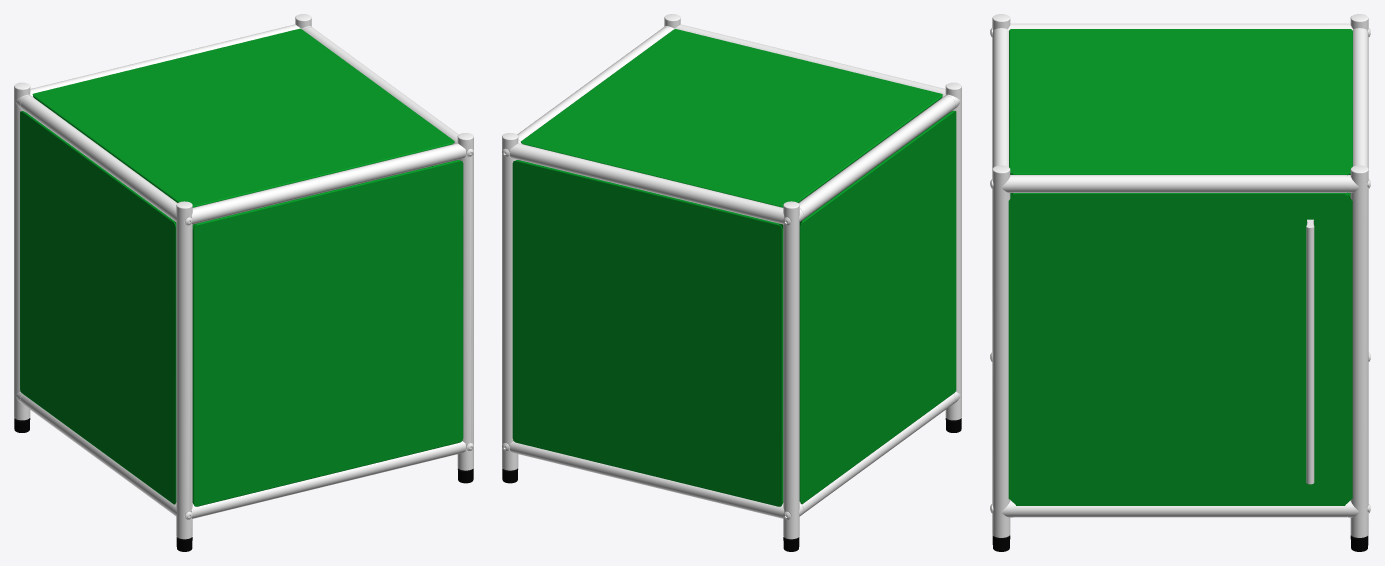
File: 40x40x40-2-5-green_optimized_optimized.glb
3 views of the same model, side by side, from view 1: azimuth 30°, elevation 25°; view 2: azimuth 150°, elevation 25°; view 3: azimuth 270°, elevation 25° (orthographic). The views are drawn at different scales.
Visible parts, largest first — view 1: 直角鐵板-40x40-5 - 零件, 反-鐵管-40-354..4-1 - 零件, 圓形腳+調整器-1 - 零件; view 2: 直角鐵板-40x40-5 - 零件, 反-鐵管-40-354..4-1 - 零件, 圓形腳+調整器-1 - 零件; view 3: 直角鐵板-40x40-5 - 零件, 反-鐵管-40-354..4-1 - 零件, 圓形腳+調整器-1 - 零件.
Part boxes in pixels (x1=…): 直角鐵板-40x40-5 - 零件: x1=20, y1=28, x2=463, y2=506; 反-鐵管-40-354..4-1 - 零件: x1=14, y1=14, x2=473, y2=539; 圓形腳+調整器-1 - 零件: x1=14, y1=418, x2=473, y2=551; 直角鐵板-40x40-5 - 零件: x1=512, y1=29, x2=956, y2=506; 反-鐵管-40-354..4-1 - 零件: x1=502, y1=14, x2=961, y2=539; 圓形腳+調整器-1 - 零件: x1=502, y1=418, x2=961, y2=551; 直角鐵板-40x40-5 - 零件: x1=1008, y1=29, x2=1352, y2=505; 反-鐵管-40-354..4-1 - 零件: x1=990, y1=14, x2=1370, y2=537; 圓形腳+調整器-1 - 零件: x1=992, y1=535, x2=1368, y2=551.
Bounding box in the file's own units: 0.4203 × 0.4453 × 0.4035.
